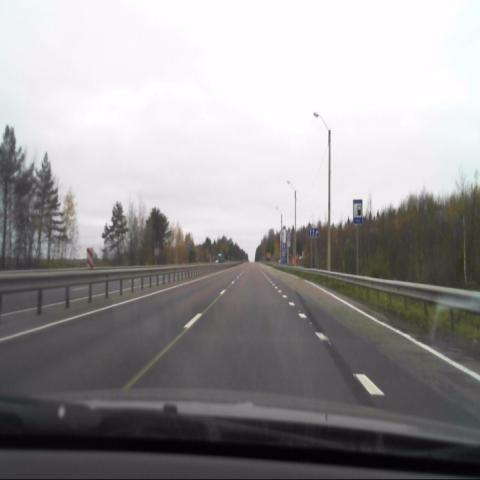7_3: (353, 198, 363, 227)
